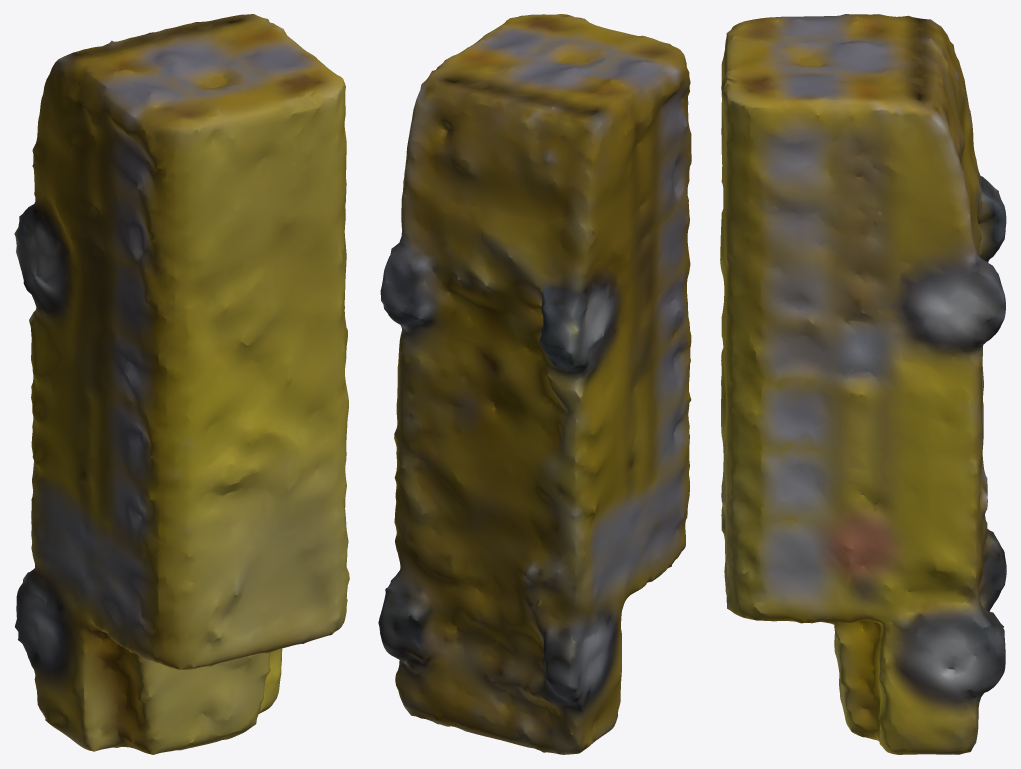
File: school_bus1.glb
The picture shows the model from 3 angles, left to right: view 1: azimuth 30°, elevation 25°; view 2: azimuth 150°, elevation 25°; view 3: azimuth 270°, elevation 25°; orthographic projection. The views are drawn at different scales.
Size of the model in its own units: 0.3266 by 0.9947 by 0.3877.
